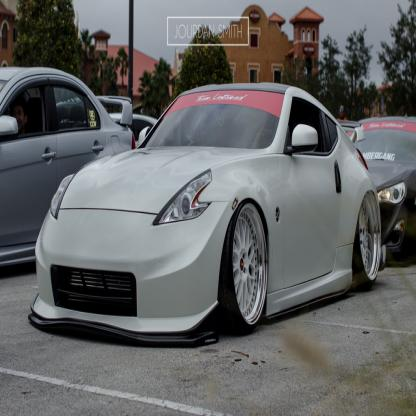Car: (1, 68, 416, 347)
